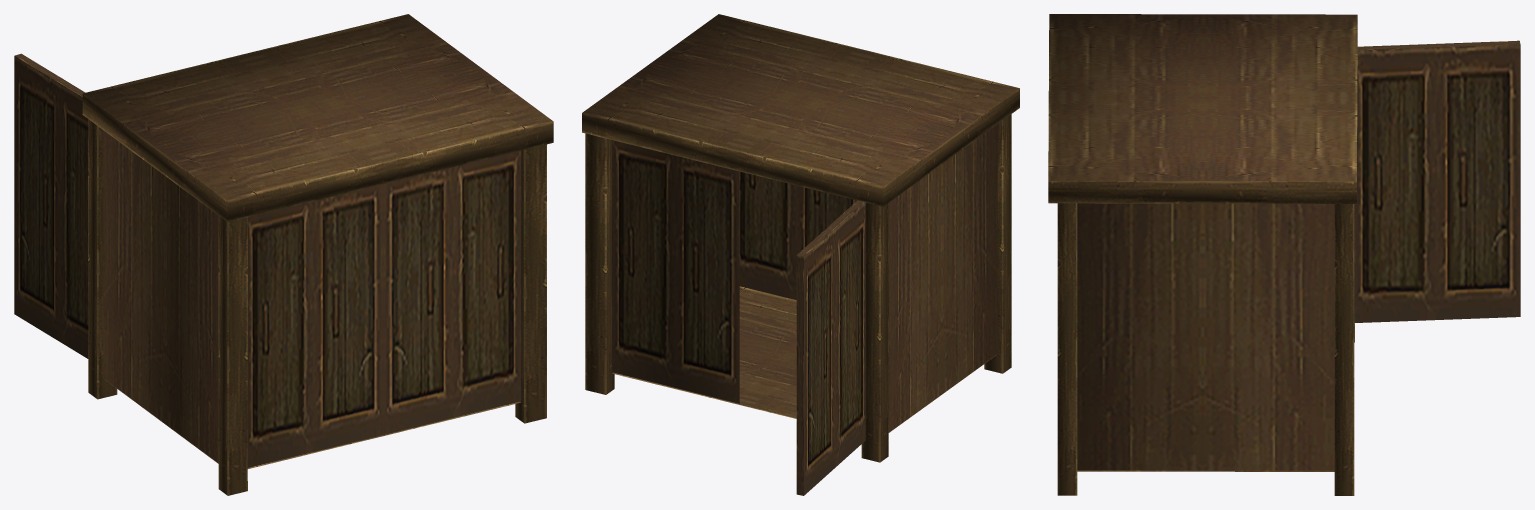
File: Sark_1_2.FBX
3 views of the same model, side by side, from view 1: azimuth 30°, elevation 25°; view 2: azimuth 150°, elevation 25°; view 3: azimuth 270°, elevation 25° (orthographic). The views are drawn at different scales.
Parts seen in each view (by area): view 1: Sark_1; view 2: Sark_1; view 3: Sark_1.
Boxes of the visible parts, x1,y1,x2,y2 form: Sark_1: (14, 14, 553, 495); Sark_1: (582, 14, 1019, 495); Sark_1: (1048, 14, 1520, 495).
Bounding box in the file's own units: 0.8846 × 0.7757 × 1.05.
1 material, 1 textured.
